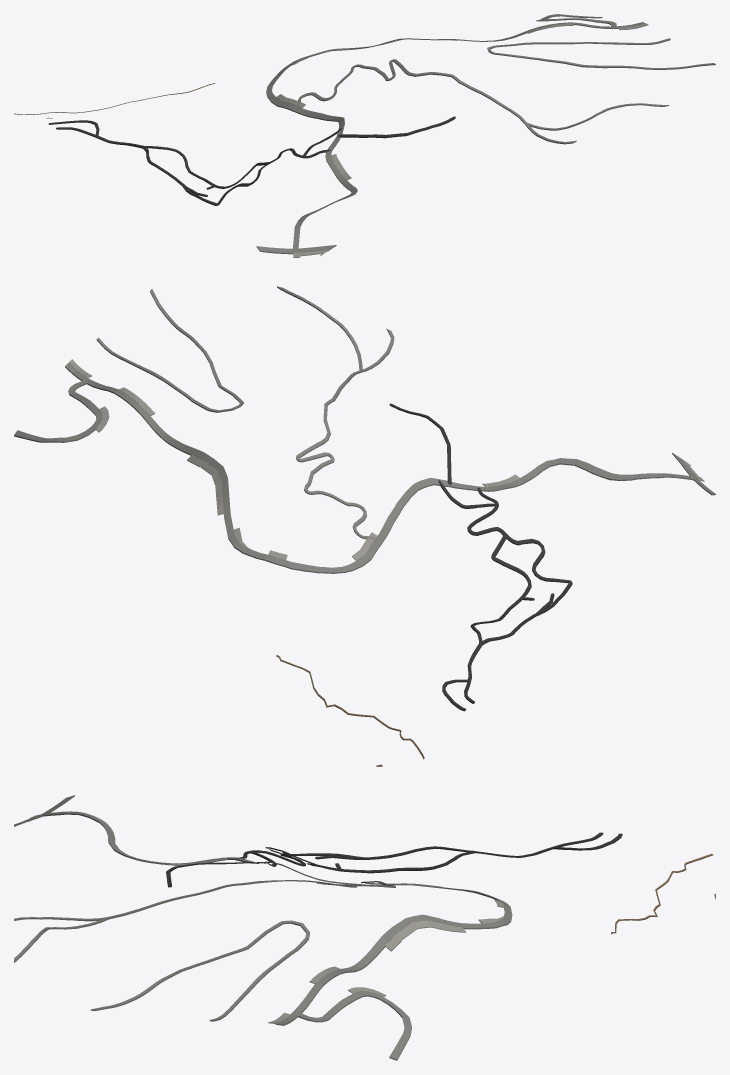
3 renders of one model, top to bottom at view 1: azimuth 30°, elevation 25°; view 2: azimuth 150°, elevation 25°; view 3: azimuth 270°, elevation 25°, orthographic. The views are drawn at different scales.
Size of the model in its own units: 587 by 152 by 583.
